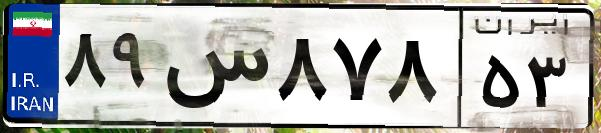3: (525, 38, 570, 115)
5: (475, 38, 525, 113)
7: (330, 28, 385, 110)
8: (270, 28, 330, 110), (385, 28, 445, 110), (57, 26, 110, 100)
9: (110, 28, 158, 98)
س: (158, 20, 270, 120)
